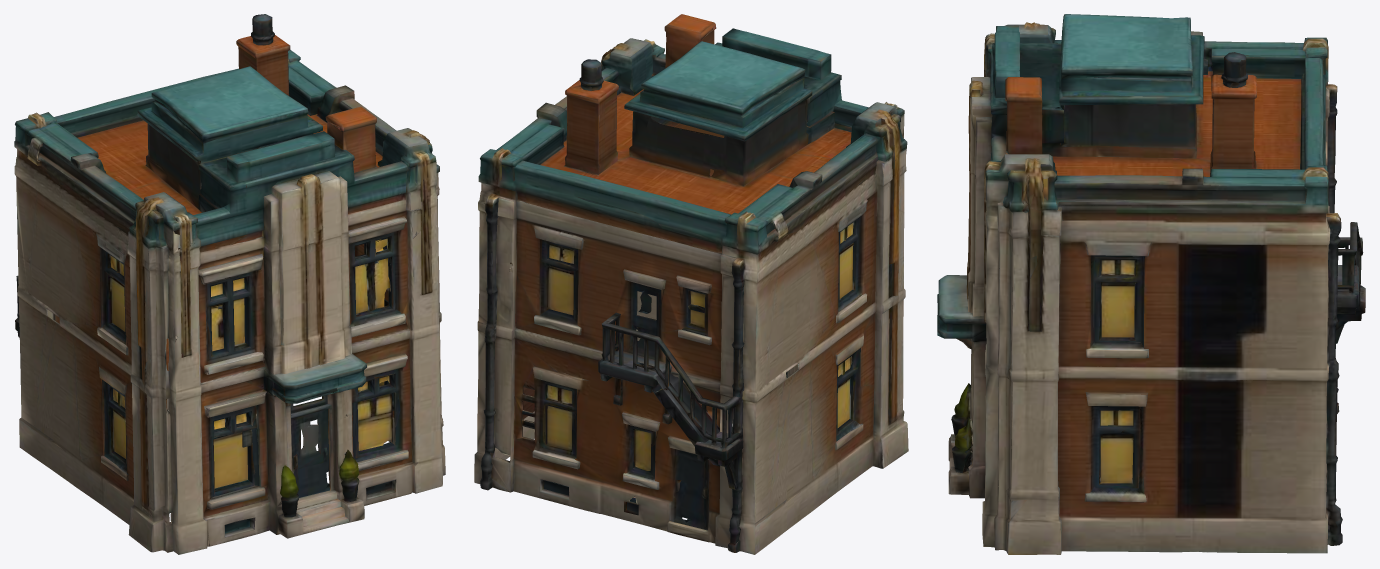
Rendered from candidate.glb.
3 views of the same model, side by side, from view 1: azimuth 30°, elevation 25°; view 2: azimuth 150°, elevation 25°; view 3: azimuth 270°, elevation 25° (orthographic). The views are drawn at different scales.
Parts seen in each view (by area): view 1: expansion__tower_2__native_mobile; view 2: expansion__tower_2__native_mobile; view 3: expansion__tower_2__native_mobile.
Boxes of the visible parts, box(x1,y1,x2,y2) form: expansion__tower_2__native_mobile: box(14, 14, 445, 554); expansion__tower_2__native_mobile: box(474, 14, 908, 554); expansion__tower_2__native_mobile: box(937, 14, 1365, 554).
Size of the model in its own units: 0.7563 by 1 by 0.8434.
1 material, 1 textured.
